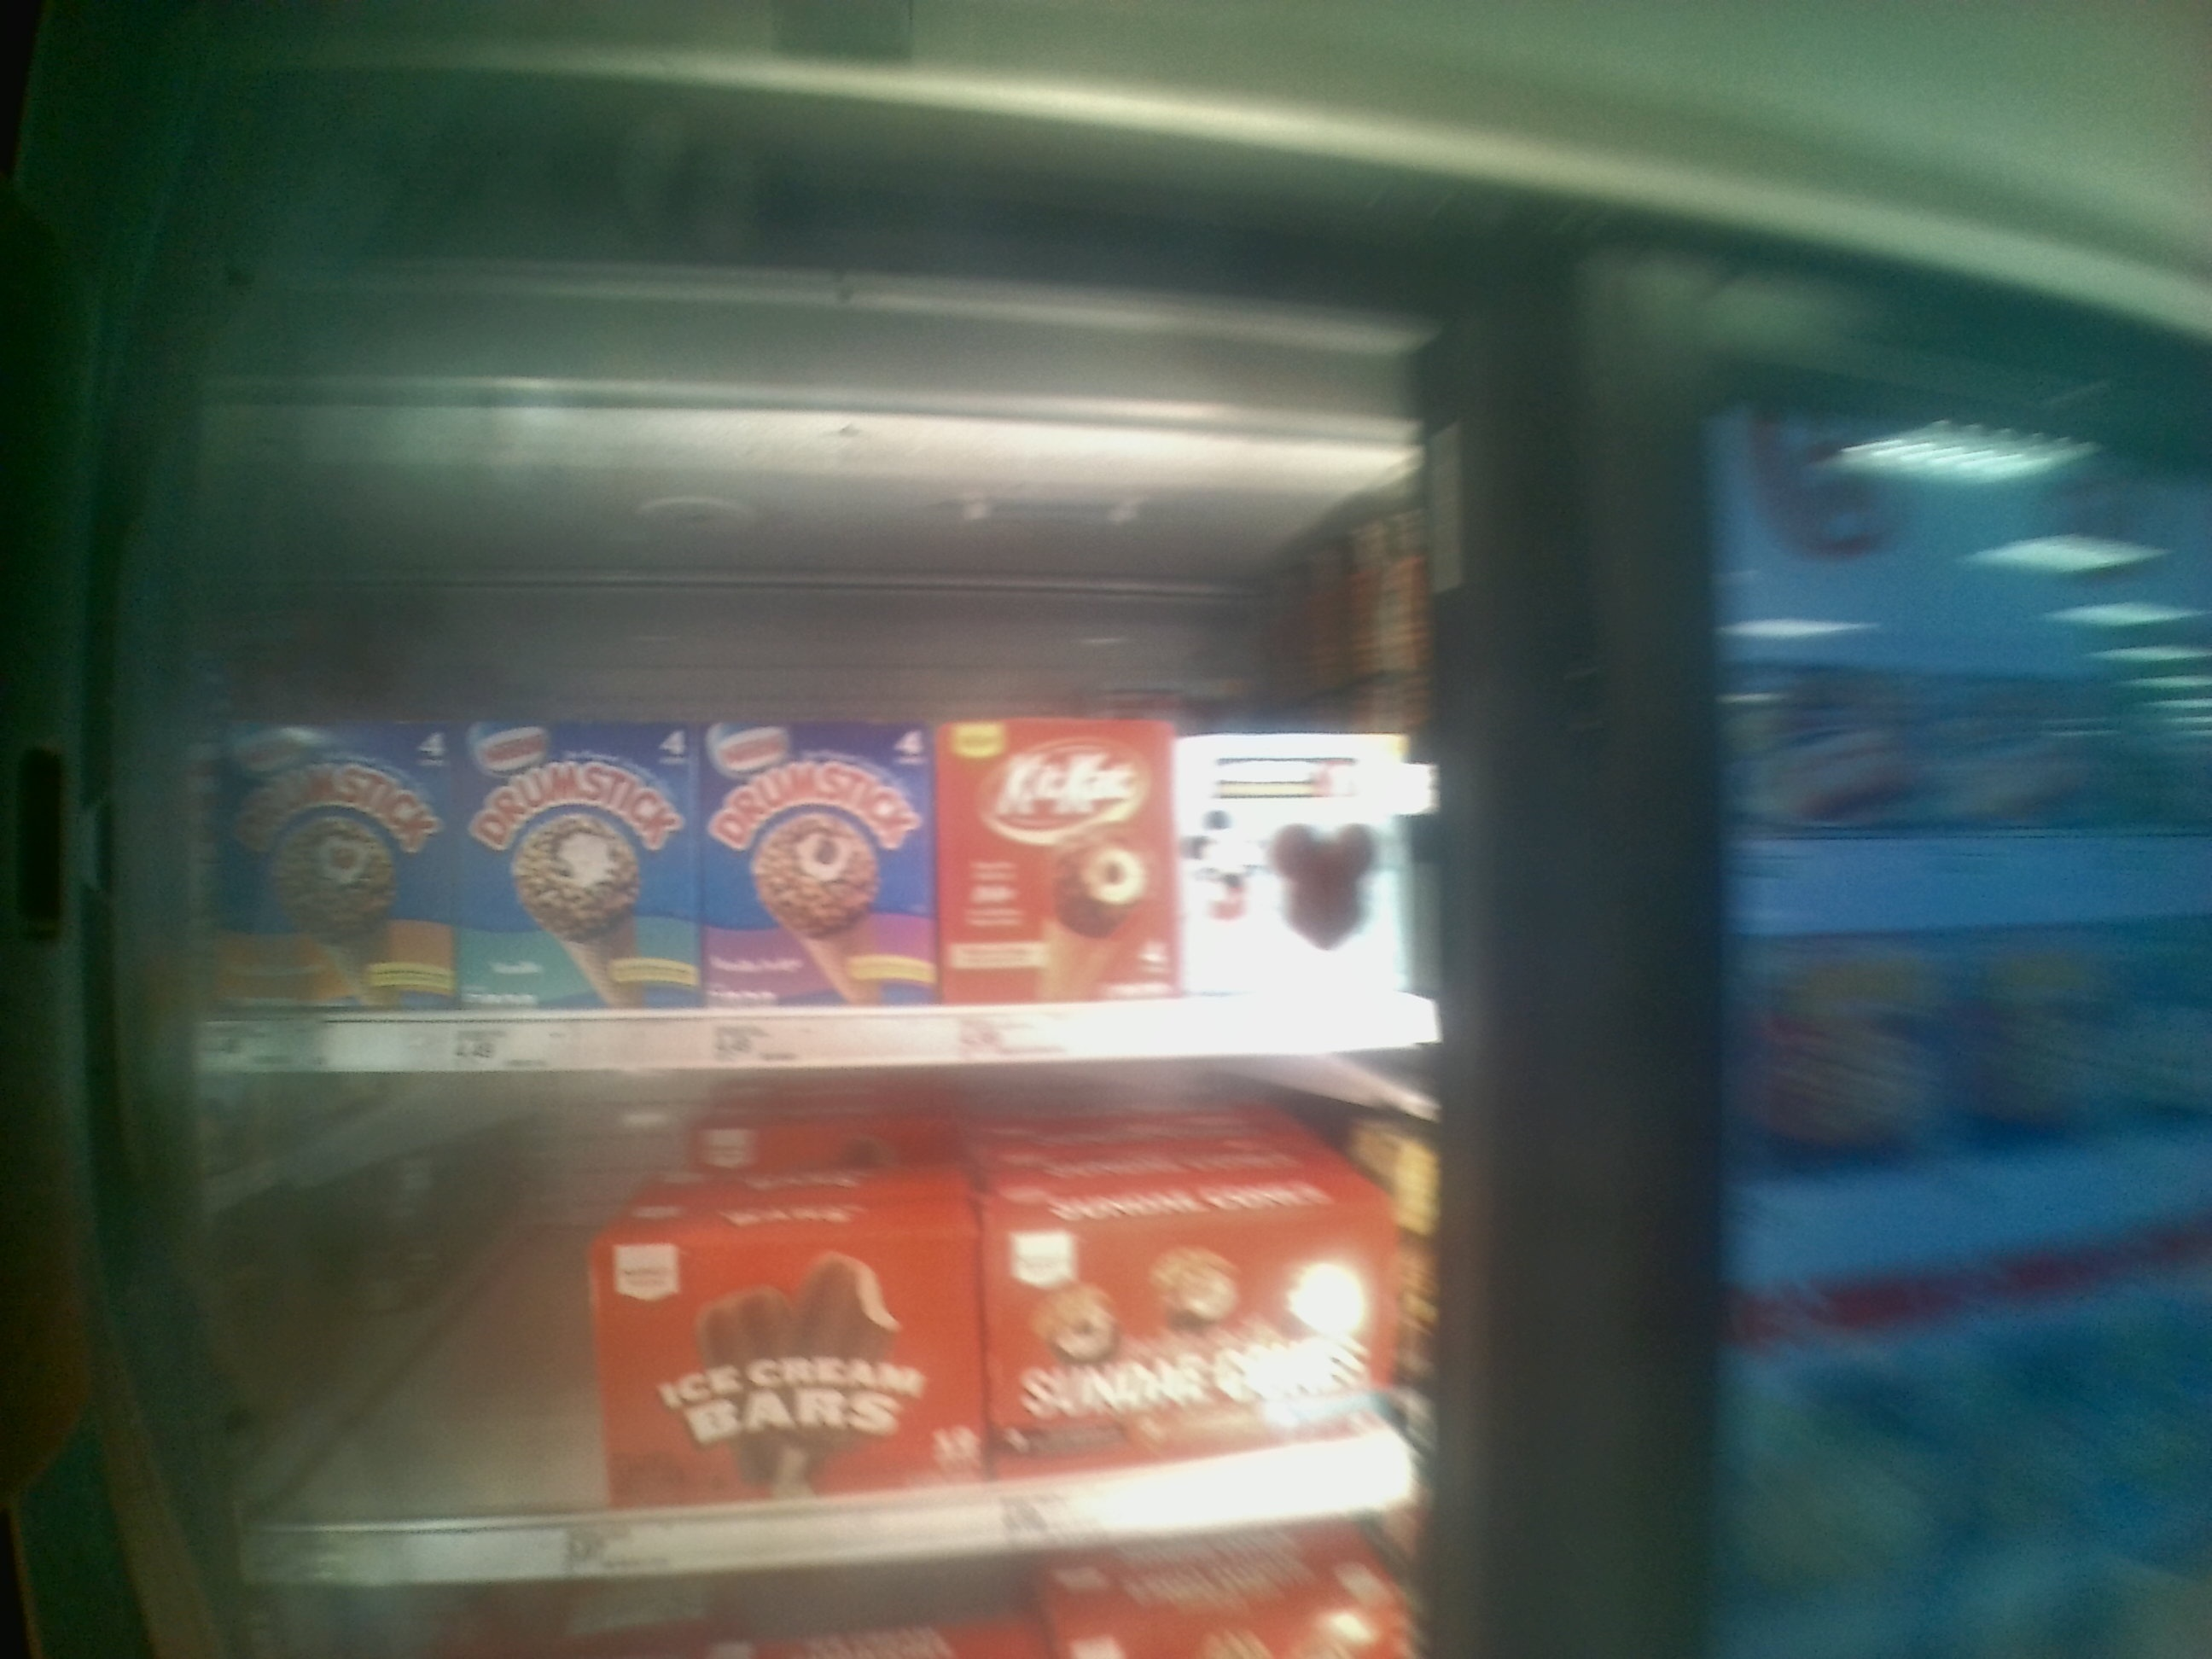frozen-food-shelf: (160, 538, 1479, 1070), (160, 1070, 1463, 1588)
